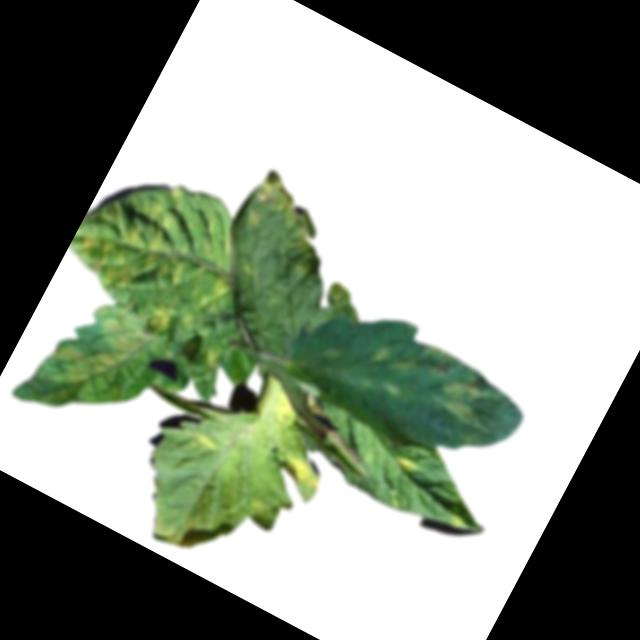Leaf_Mold: (67, 151, 269, 337), (9, 280, 173, 450), (237, 165, 345, 264), (424, 363, 502, 434), (144, 501, 206, 557), (269, 449, 327, 496), (366, 334, 419, 380), (141, 294, 182, 339), (182, 427, 221, 461), (386, 450, 424, 481)
